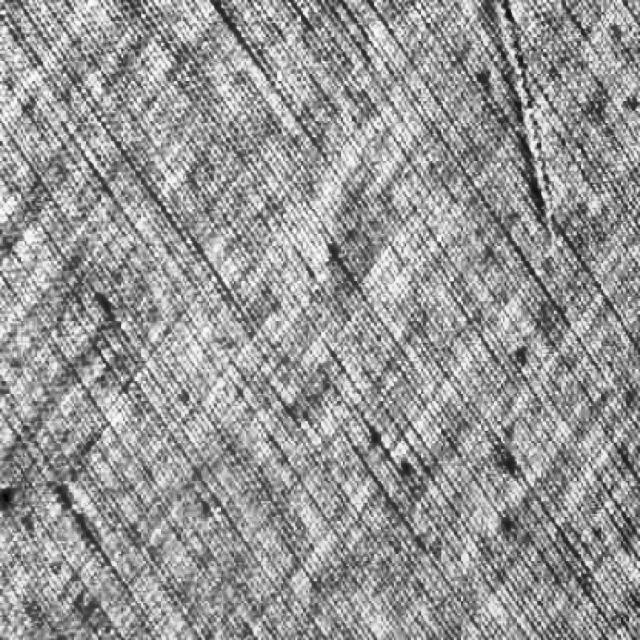thread_error: (472, 0, 575, 240)
